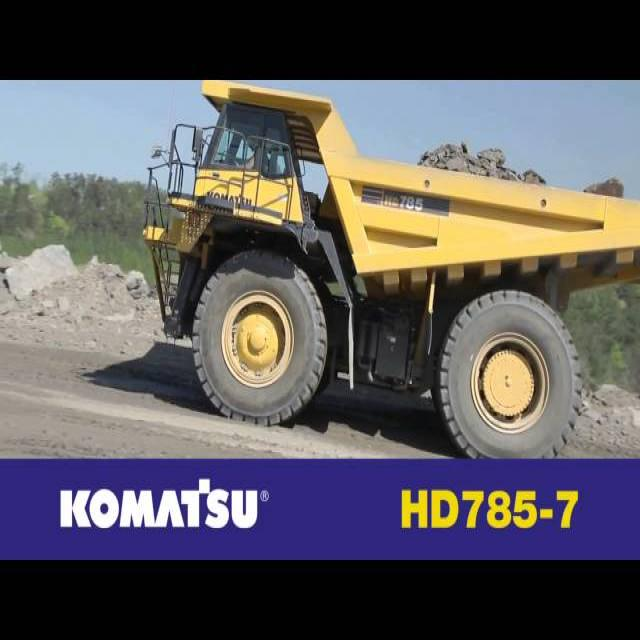dump_truck: (148, 76, 640, 454)
